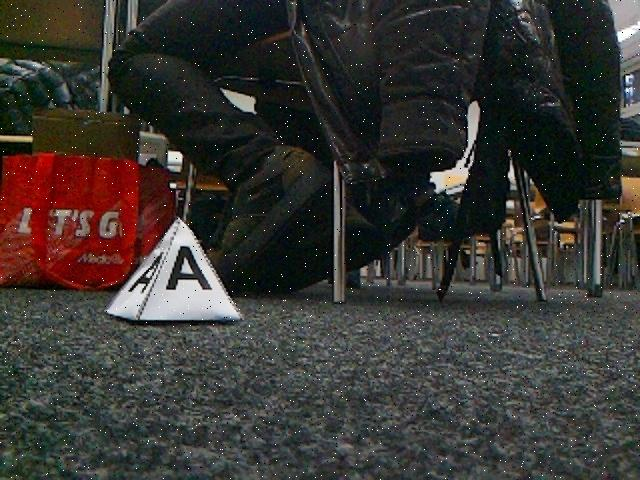A: (114, 216, 244, 327)
